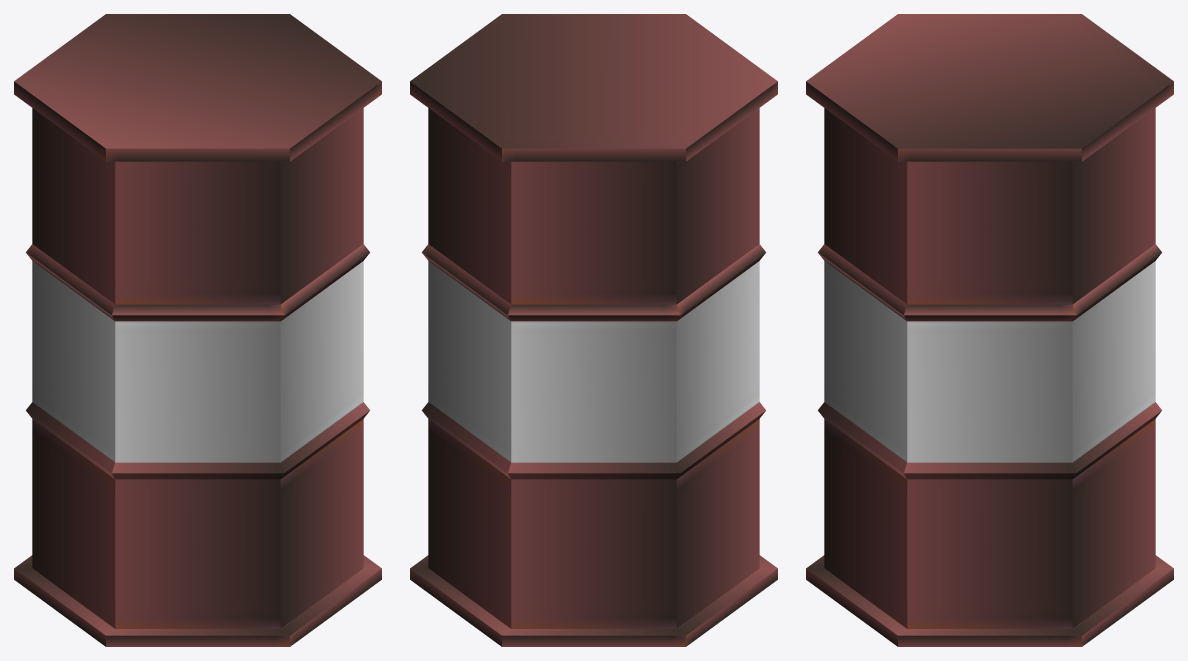
File: barrel.fbx
3 renders of one model, left to right at view 1: azimuth 30°, elevation 25°; view 2: azimuth 150°, elevation 25°; view 3: azimuth 270°, elevation 25°, orthographic.
Visible parts, largest first — view 1: barrel; view 2: barrel; view 3: barrel.
Boxes of the visible parts, bbox=[...] form: barrel: bbox=[14, 14, 381, 646]; barrel: bbox=[410, 14, 777, 646]; barrel: bbox=[806, 14, 1173, 646].
Size of the model in its own units: 154 by 266 by 178.
